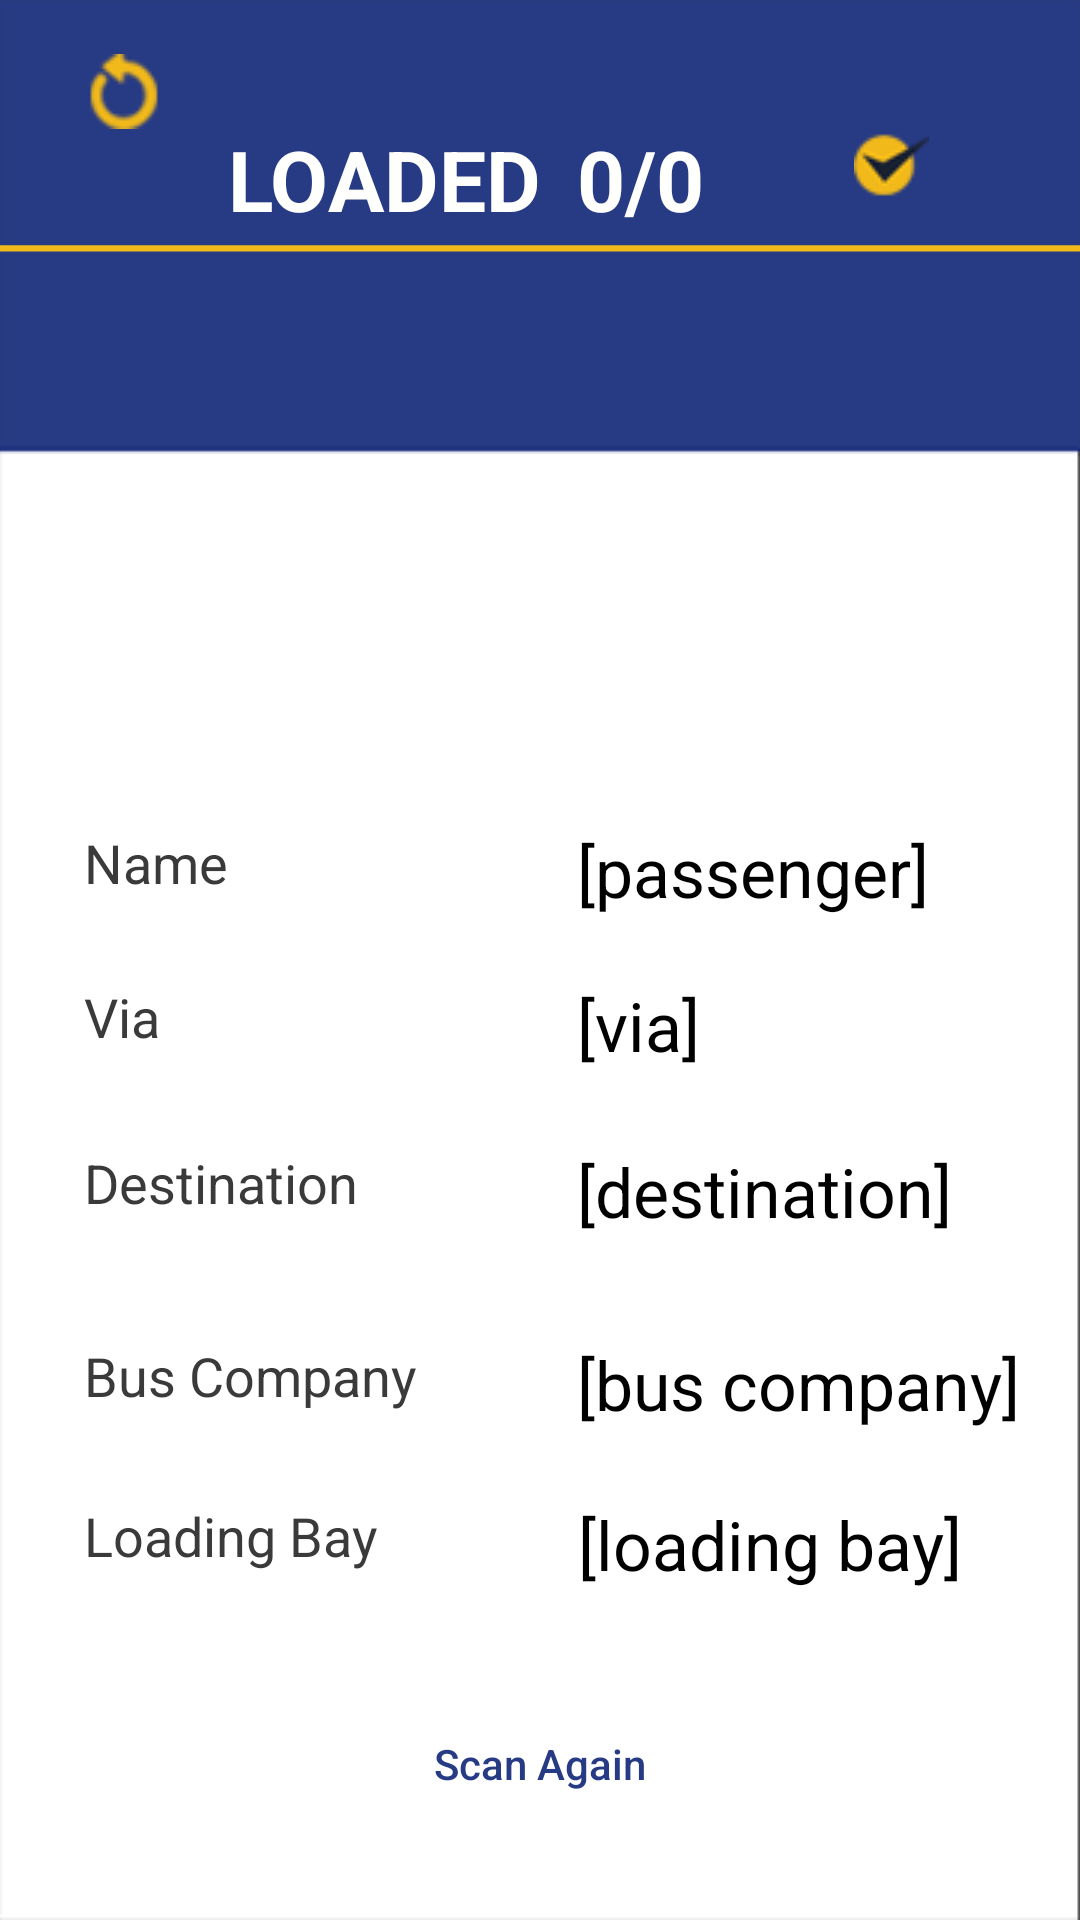

Where to tap for icons on this 1080 × 1920 app screen, as point (x, y):
check: point (891, 165)
refresh: point (124, 91)
